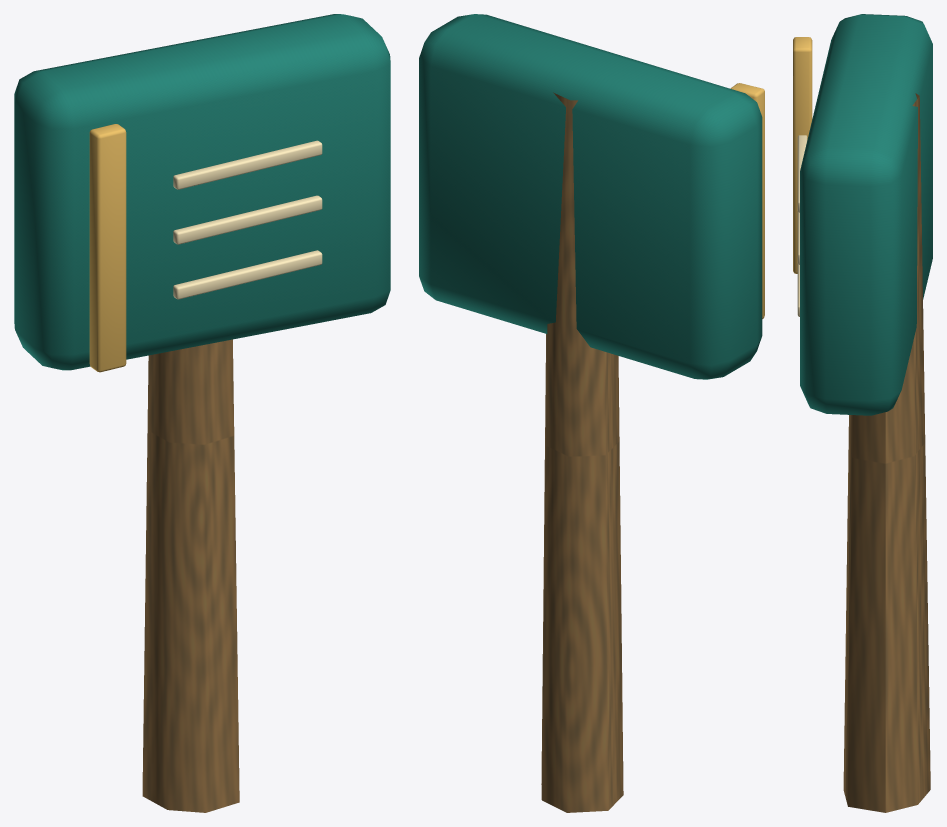
File: activity.glb
3 views of the same model, side by side, from view 1: azimuth 30°, elevation 25°; view 2: azimuth 150°, elevation 25°; view 3: azimuth 270°, elevation 25° (orthographic). The views are drawn at different scales.
Visible parts, largest first — view 1: Activity journal, Activity post, Activity book spine, Activity page line, Activity page line.001, Activity page line.002; view 2: Activity journal, Activity post, Activity book spine; view 3: Activity journal, Activity post, Activity book spine, Activity page line.002.
Part boxes in pixels (left/top/right/bottom): Activity journal: left=14, top=14, right=390, bottom=370; Activity post: left=142, top=339, right=239, bottom=812; Activity book spine: left=89, top=124, right=126, bottom=372; Activity page line: left=173, top=250, right=322, bottom=299; Activity page line.001: left=173, top=195, right=322, bottom=244; Activity page line.002: left=173, top=140, right=322, bottom=189; Activity journal: left=419, top=14, right=762, bottom=379; Activity post: left=541, top=92, right=623, bottom=812; Activity book spine: left=730, top=83, right=764, bottom=318; Activity journal: left=800, top=14, right=932, bottom=415; Activity post: left=843, top=93, right=930, bottom=812; Activity book spine: left=793, top=37, right=812, bottom=273; Activity page line.002: left=797, top=135, right=807, bottom=212.
Size of the model in its own units: 0.5841 by 1.23 by 0.2191.
Materials: 4 (2 with a texture image).
